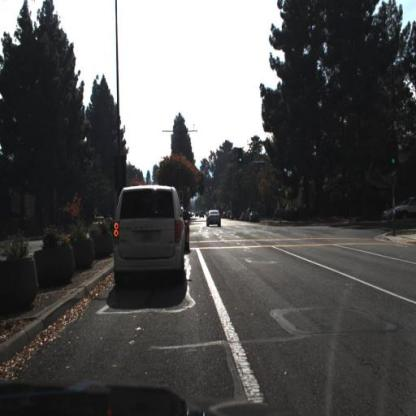car: (112, 181, 188, 289), (396, 195, 416, 224), (204, 204, 224, 232), (206, 209, 224, 230), (382, 202, 398, 223)
trafficLight-Green: (390, 142, 398, 170), (237, 151, 246, 172), (238, 148, 243, 164), (279, 181, 284, 195)
